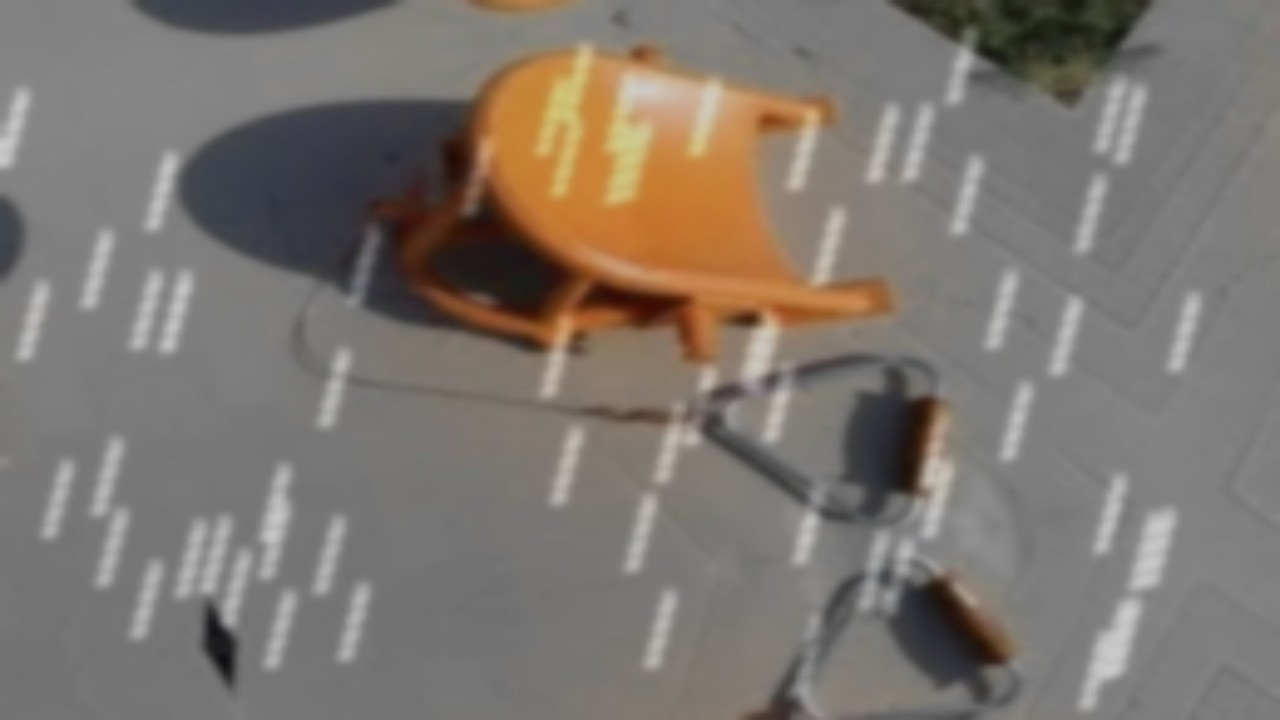chock: (332, 10, 916, 411)
